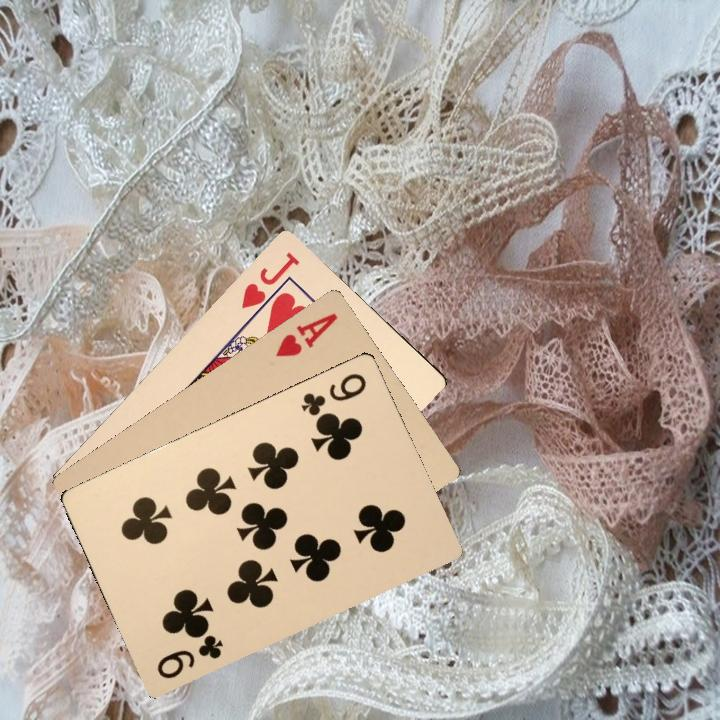9c: (152, 630, 226, 682), (297, 369, 369, 421)
Ah: (271, 308, 340, 360)
Jh: (237, 247, 302, 322)
